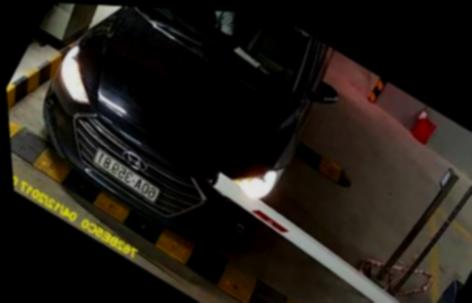License_Plate: (90, 144, 164, 208)
